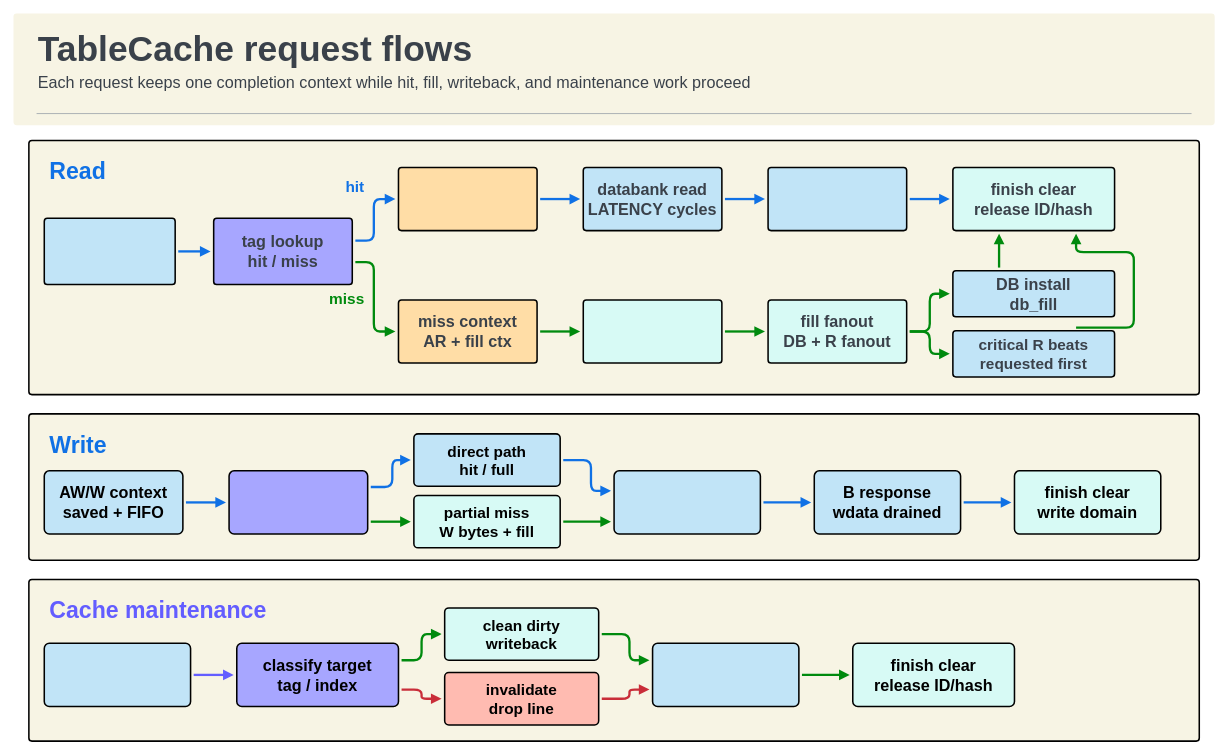
Some shapes in this 1227 by 755 pixel diagram are drawn without their labels. Each missing label, with the centre of its shape:
AR + snoop CBOM opcode: (x=117, y=674)
AR accept ID + hash: (x=109, y=251)
classify hit/full/RMW: (x=298, y=502)
DB merge WSTRB bytes: (x=687, y=502)
memory path fill + WB: (x=652, y=331)
R beats out_fifo: (x=837, y=198)
single R ack no data · RLAST: (x=725, y=674)
way context way_table: (x=467, y=198)
